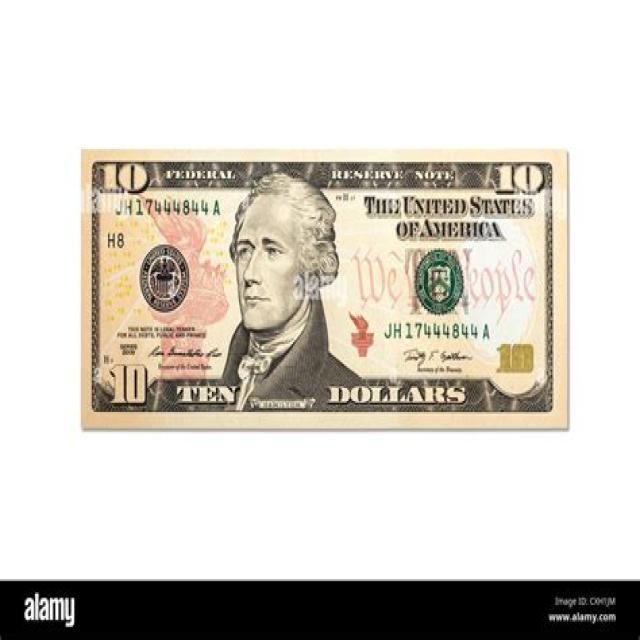Ten: (80, 148, 569, 430)
